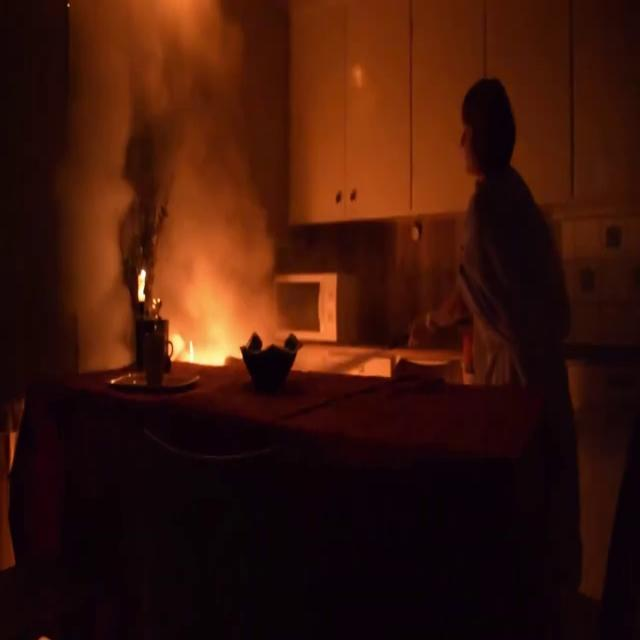Fire: (158, 314, 233, 376)
Smoke: (48, 2, 306, 330)
